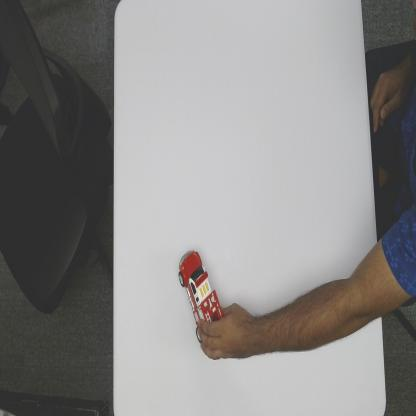Arm: (263, 231, 384, 357)
Firetruck: (176, 242, 221, 320)
Hand: (194, 300, 261, 363)
